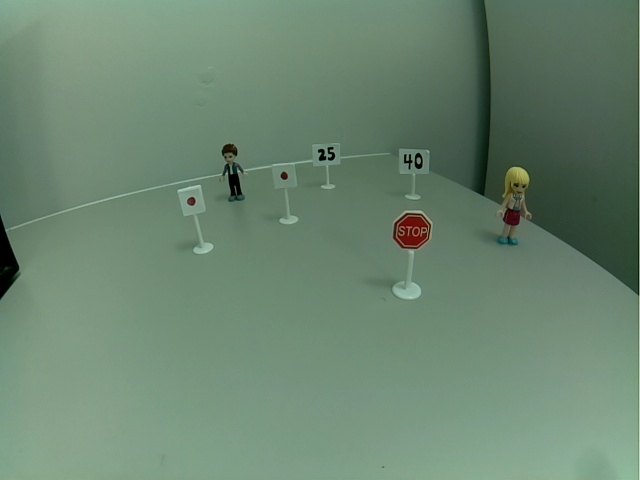people: (494, 164, 533, 249), (215, 143, 251, 203)
red light: (176, 184, 207, 218), (270, 162, 298, 191)
speed 25: (313, 142, 343, 167)
speed 40: (397, 146, 432, 176)
stop: (391, 208, 434, 252)
